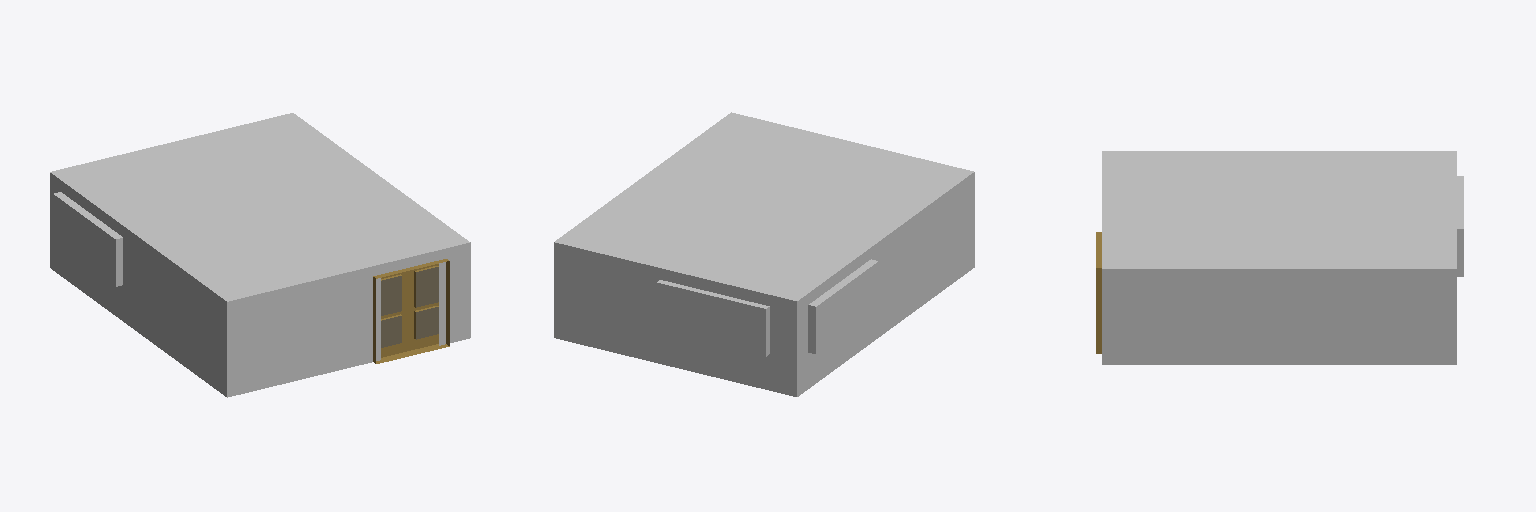
The picture shows the model from 3 angles: view 1: azimuth 30°, elevation 25°; view 2: azimuth 150°, elevation 25°; view 3: azimuth 270°, elevation 25°; orthographic projection.
Parts seen in each view (by area): view 1: ROOM_Cube.008; view 2: ROOM_Cube.008; view 3: ROOM_Cube.008.
Boxes of the visible parts, x1=… form: ROOM_Cube.008: x1=50, y1=113, x2=470, y2=397; ROOM_Cube.008: x1=554, y1=112, x2=974, y2=396; ROOM_Cube.008: x1=1096, y1=151, x2=1463, y2=364.
Bounding box in the file's own units: 8.23 × 3 × 10.44.
Materials: 1 (1 with a texture image).